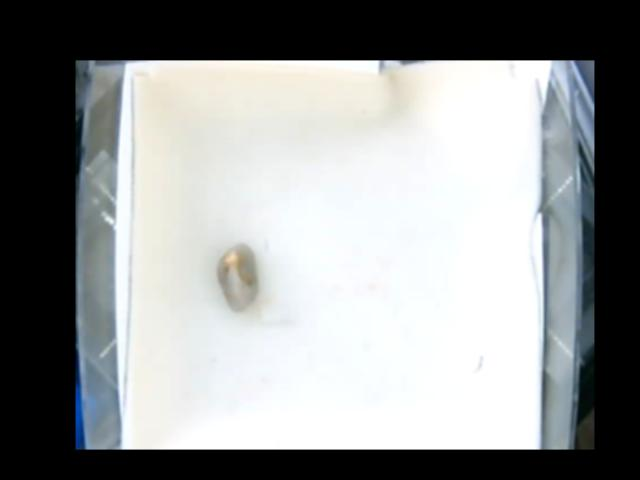Pebble: (217, 242, 256, 310)
